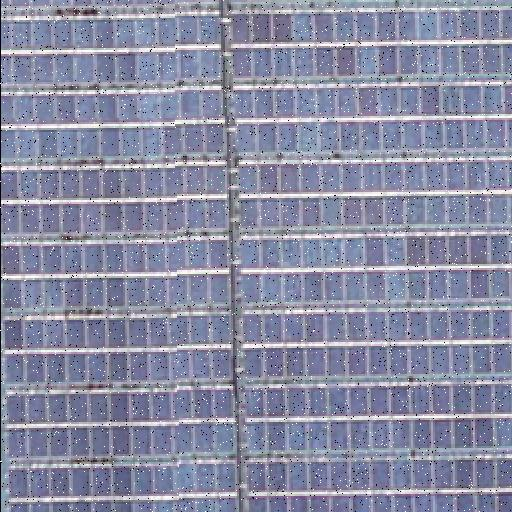solar-panel: (232, 4, 512, 80), (236, 156, 512, 232), (233, 83, 511, 157), (240, 231, 512, 305), (241, 307, 511, 381), (248, 380, 512, 452), (1, 160, 231, 236), (0, 235, 232, 309), (0, 87, 228, 161), (5, 312, 235, 384), (5, 386, 235, 458), (0, 14, 224, 86), (248, 454, 512, 512), (10, 460, 238, 512), (0, 0, 224, 8), (231, 0, 377, 4)
